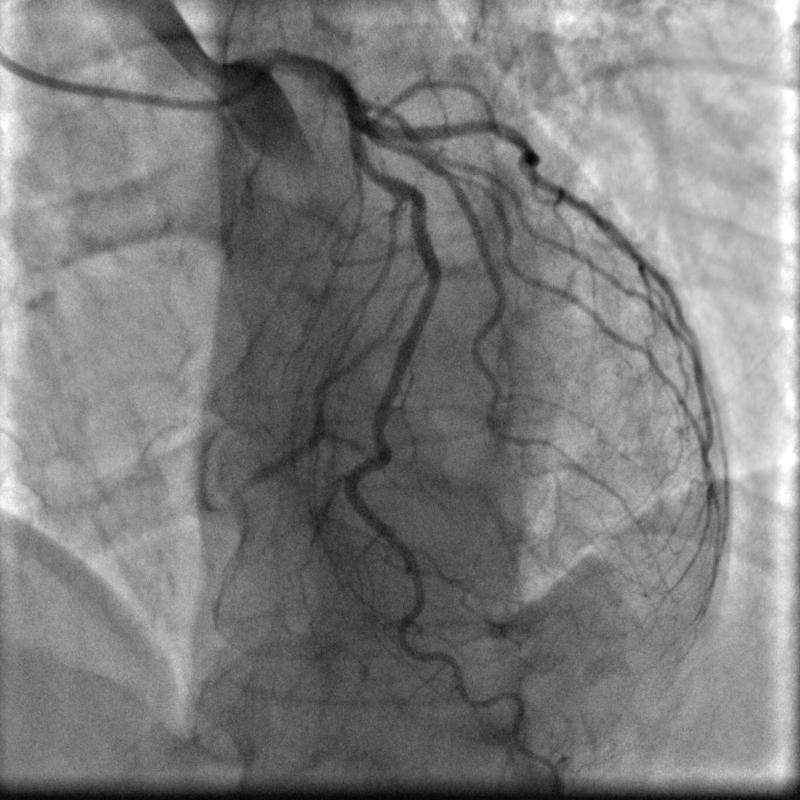Stenosis: (357, 162, 389, 178)
